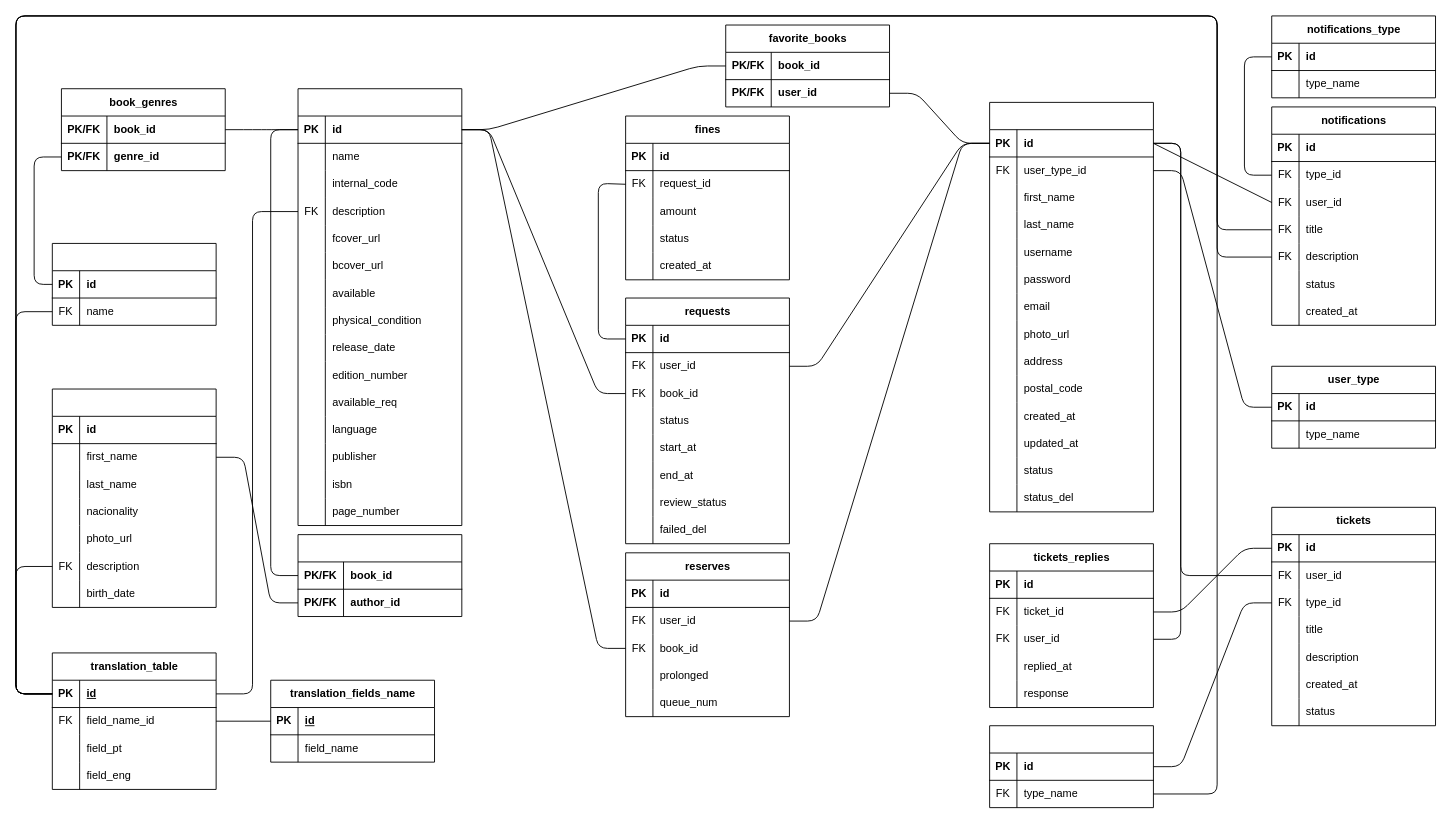
This 1451x824 diagram has some shape labels left out. Each missing label, with the box of its shape:
author_book: (297, 534, 462, 617)
authors: (51, 388, 216, 607)
books: (297, 88, 462, 526)
genres: (51, 243, 216, 325)
tickets_types: (989, 725, 1153, 808)
users: (989, 101, 1153, 512)
